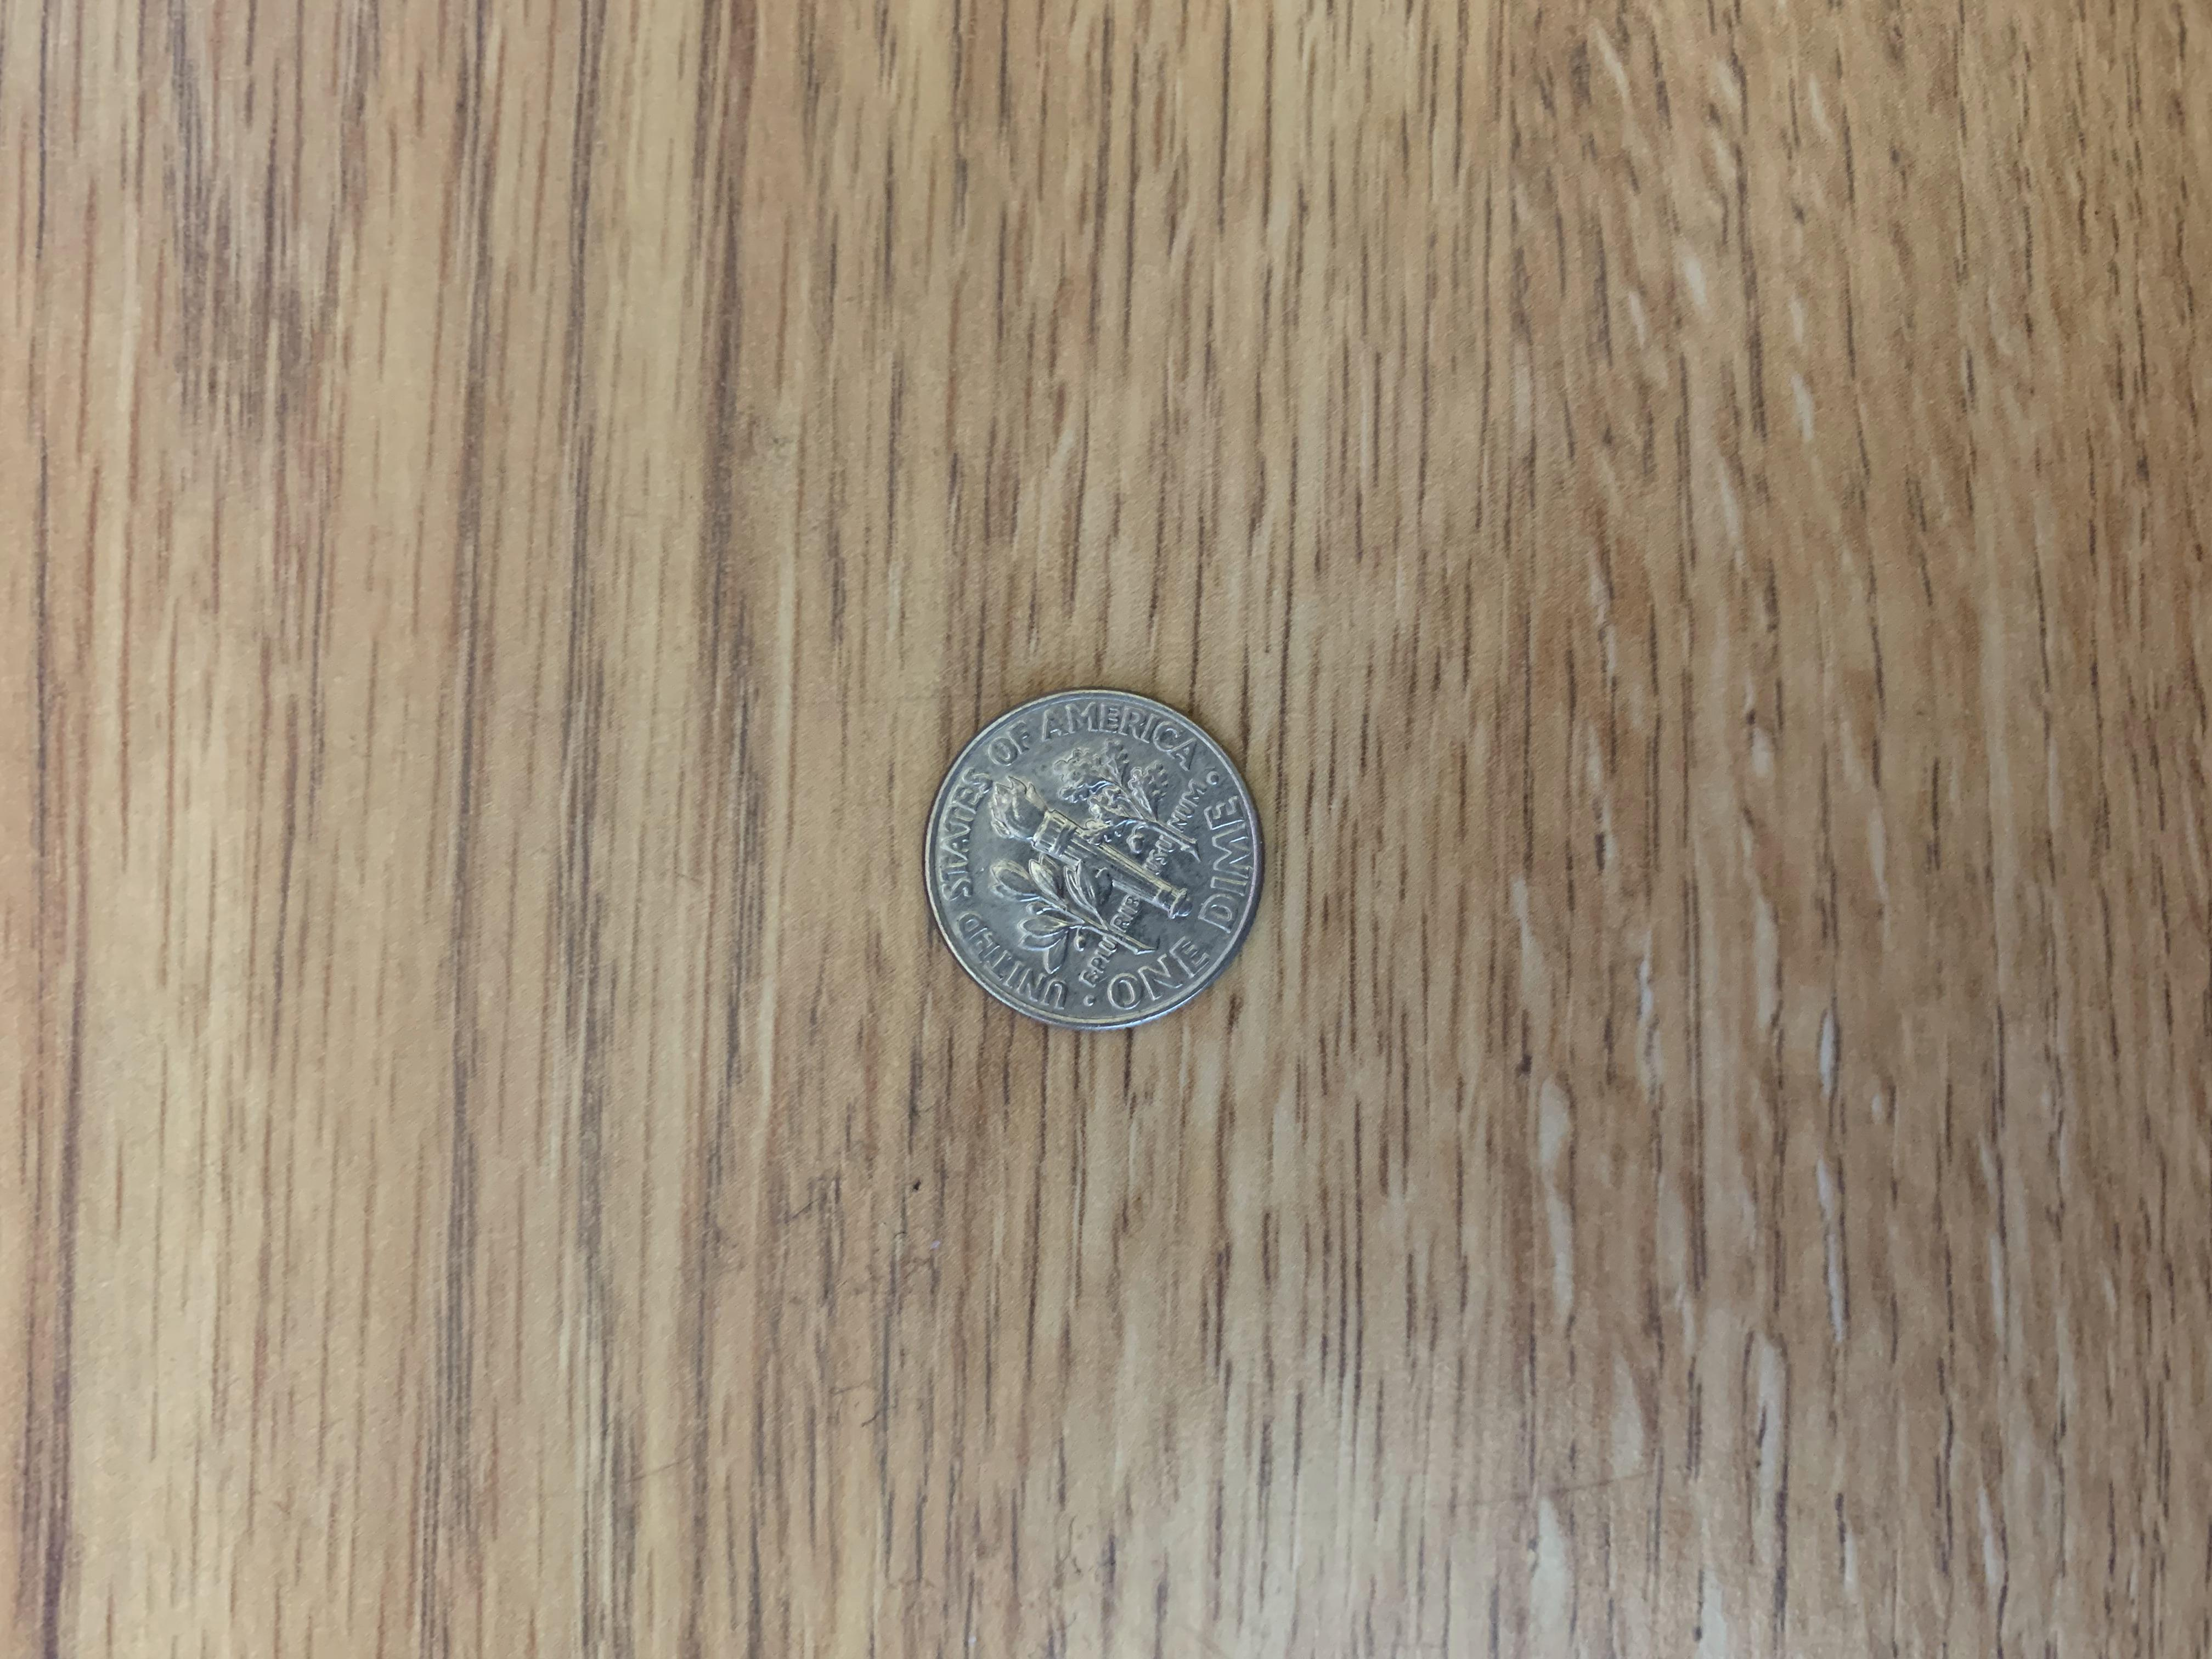Dime: (911, 676, 1264, 1040)
